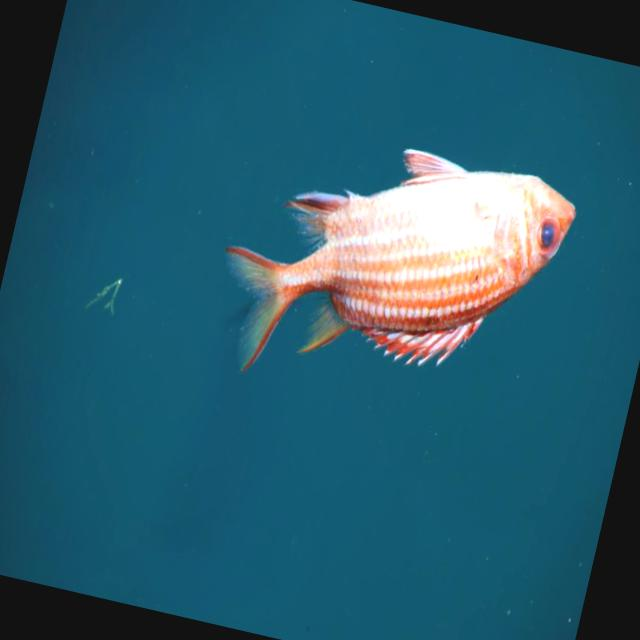Asker Baligi: (198, 105, 584, 438)
